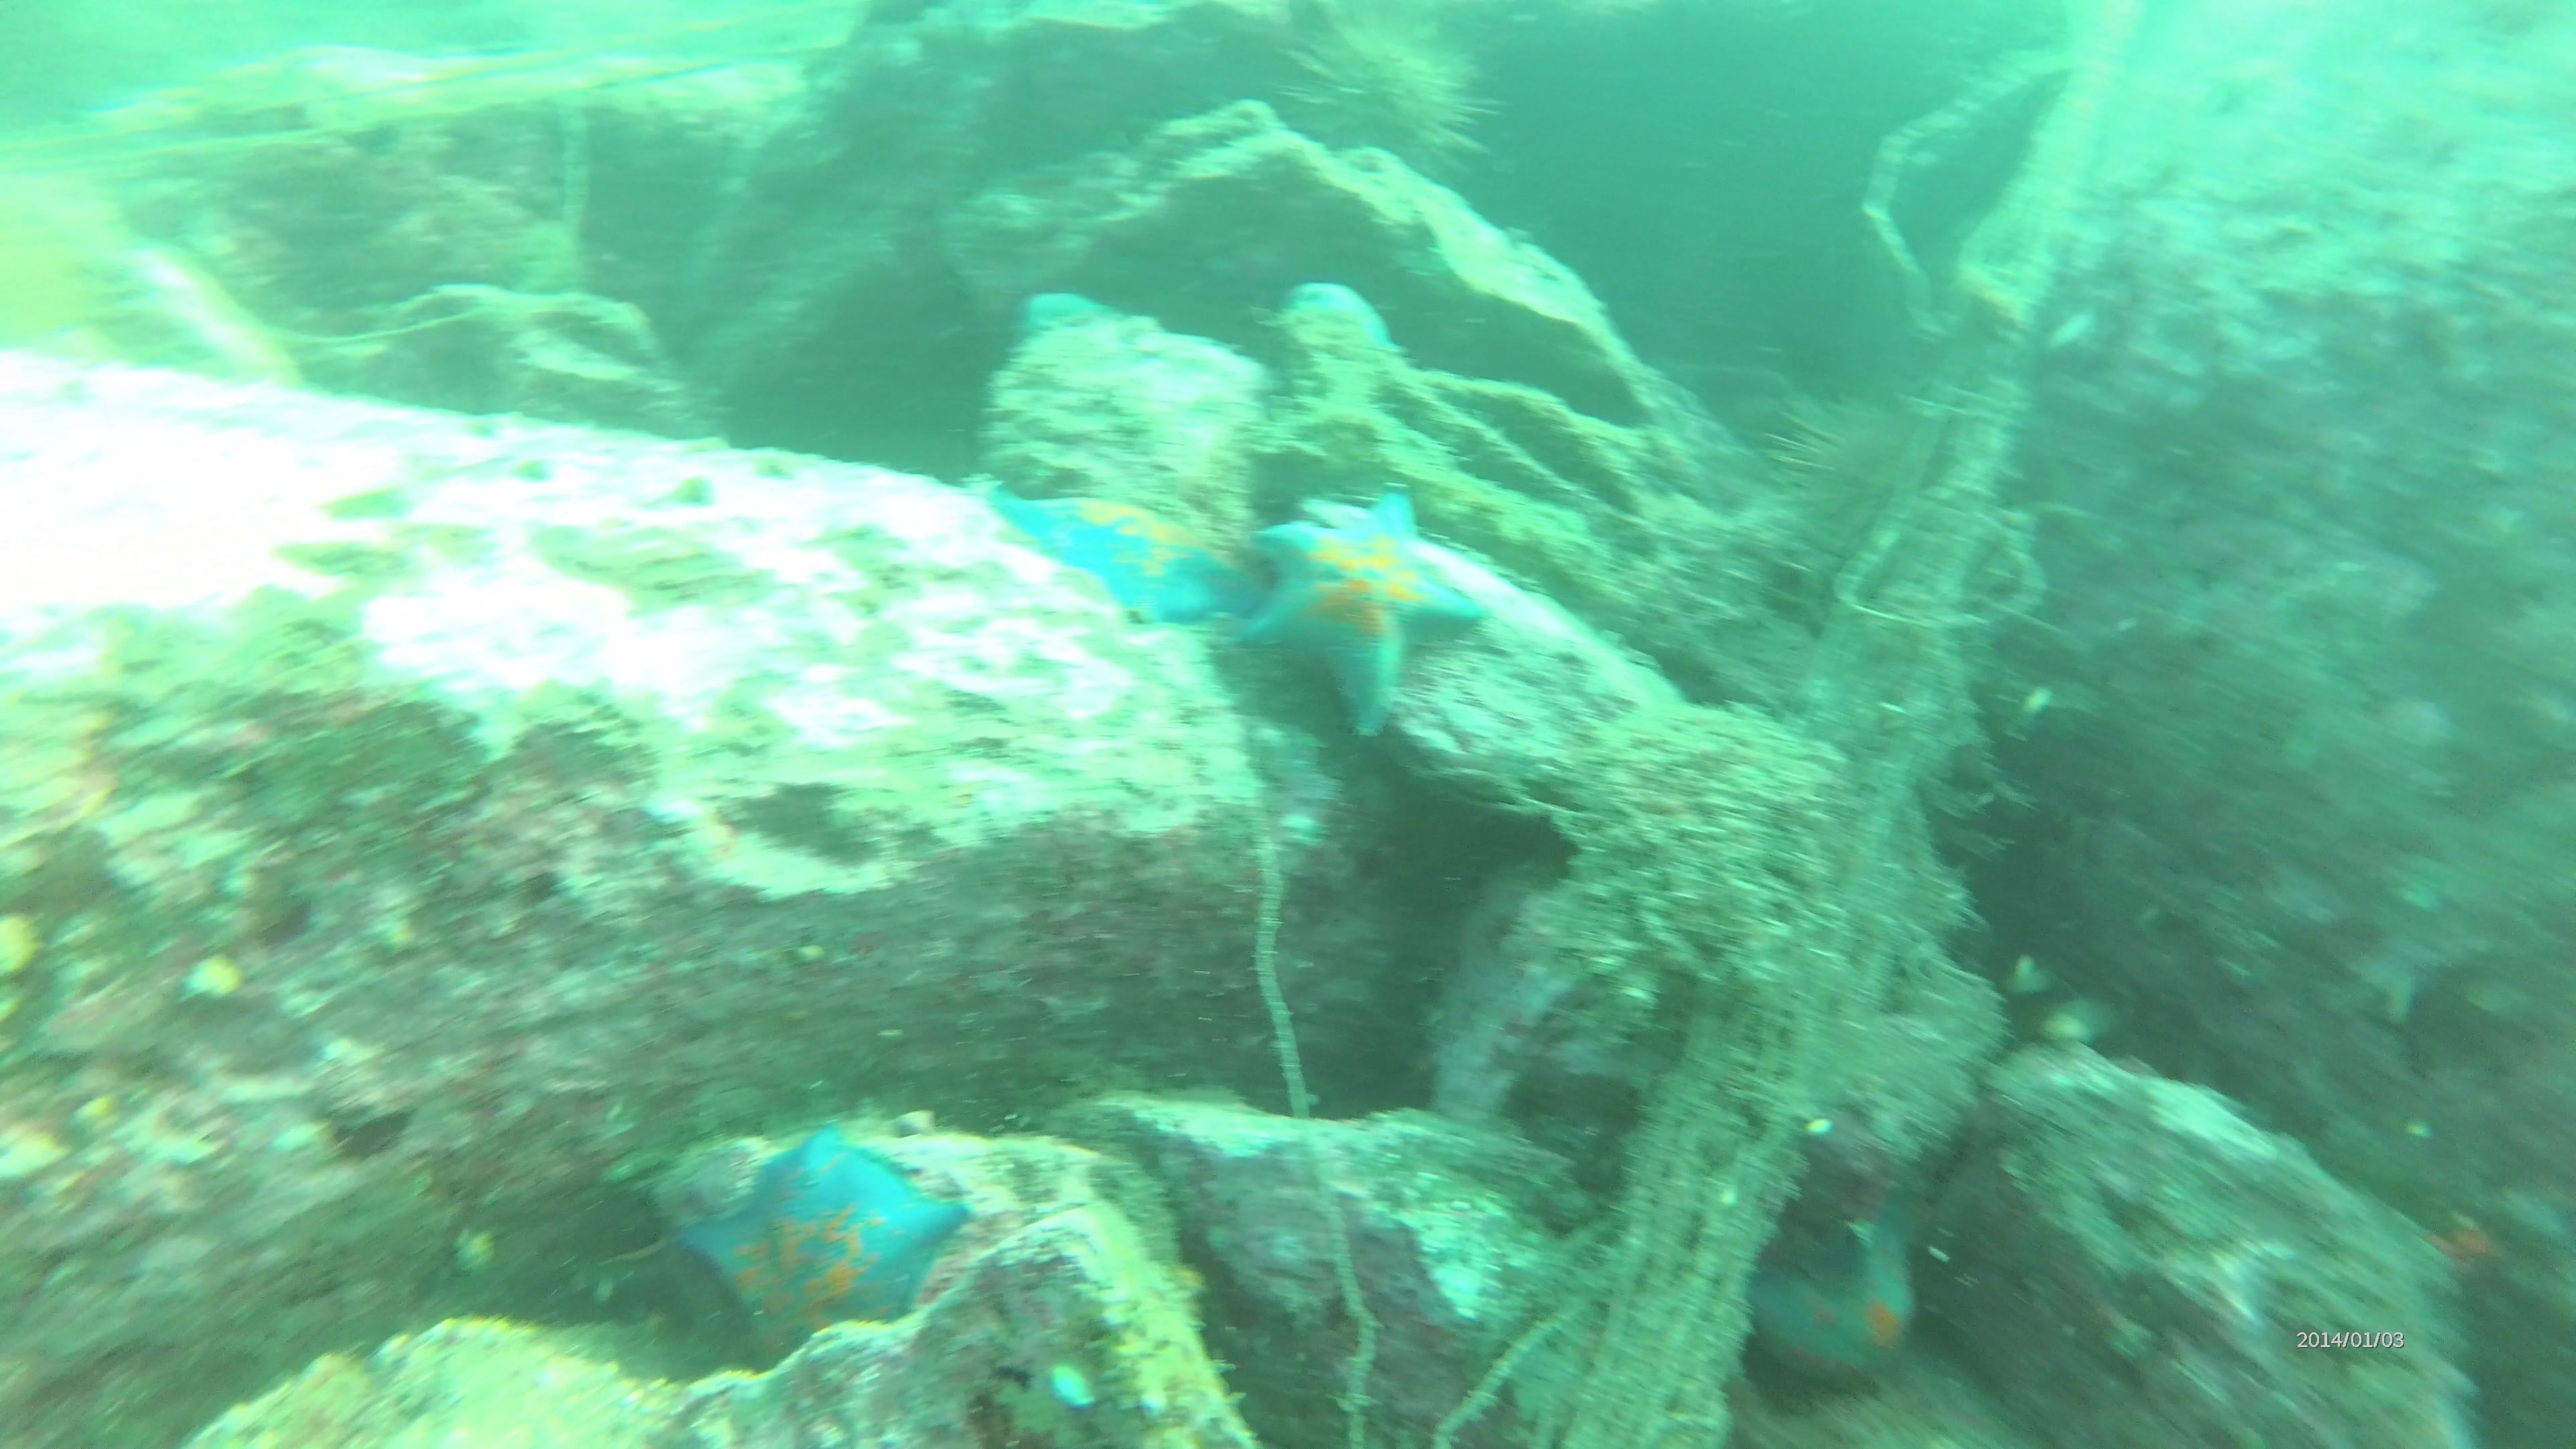echinus: (1269, 9, 1502, 180), (1760, 384, 1959, 550)
starfish: (669, 1125, 975, 1362), (1235, 479, 1491, 738), (982, 476, 1272, 635), (1743, 1205, 1936, 1405), (1256, 260, 1401, 352), (1000, 281, 1136, 341)
